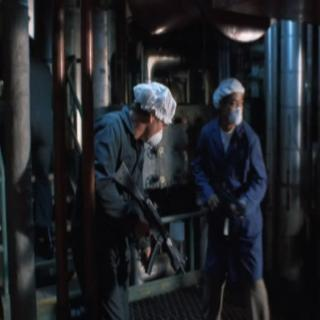gun: (112, 157, 189, 281)
